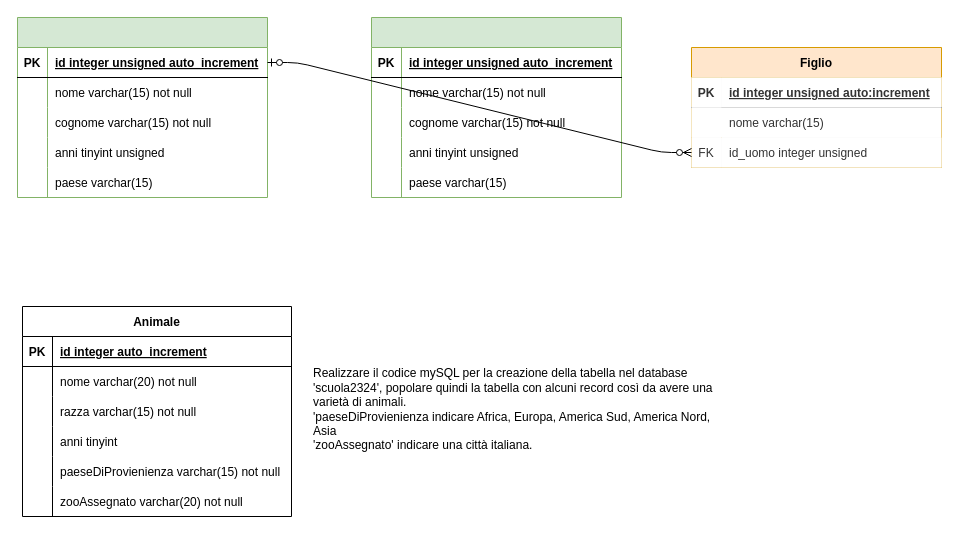
The diagram is 959 pixels wide and 534 high, and some of its shapes have lost their labels. Here are the shapes that lost their labels. From the top down, the box of each, then its label:
(16, 16, 268, 198): Uomo
(370, 16, 622, 198): Donna
